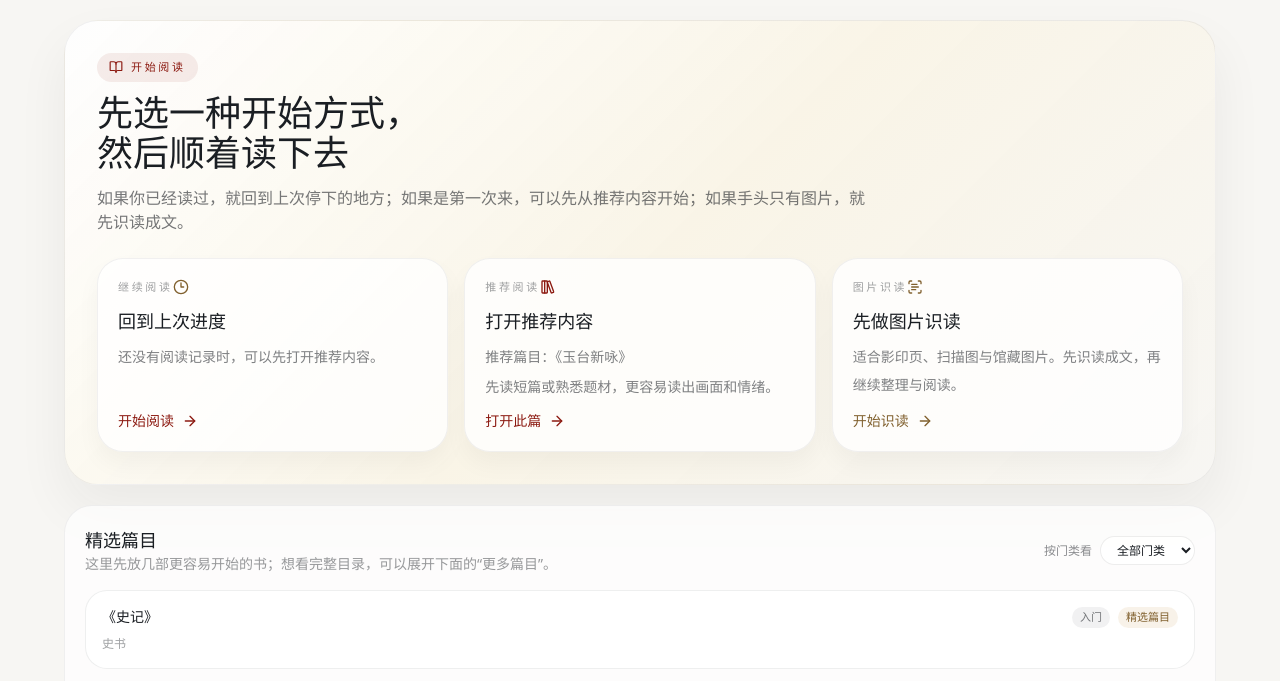
it: BookshelfPanel › keeps featured picks diverse for 全部 and narrows after selecting a category
Expected: the text "《史记》" is shown, [102, 607, 158, 627]
Select "文学" in the dropdown showing "全部门类" at (1148, 550), box [1100, 536, 1195, 564]
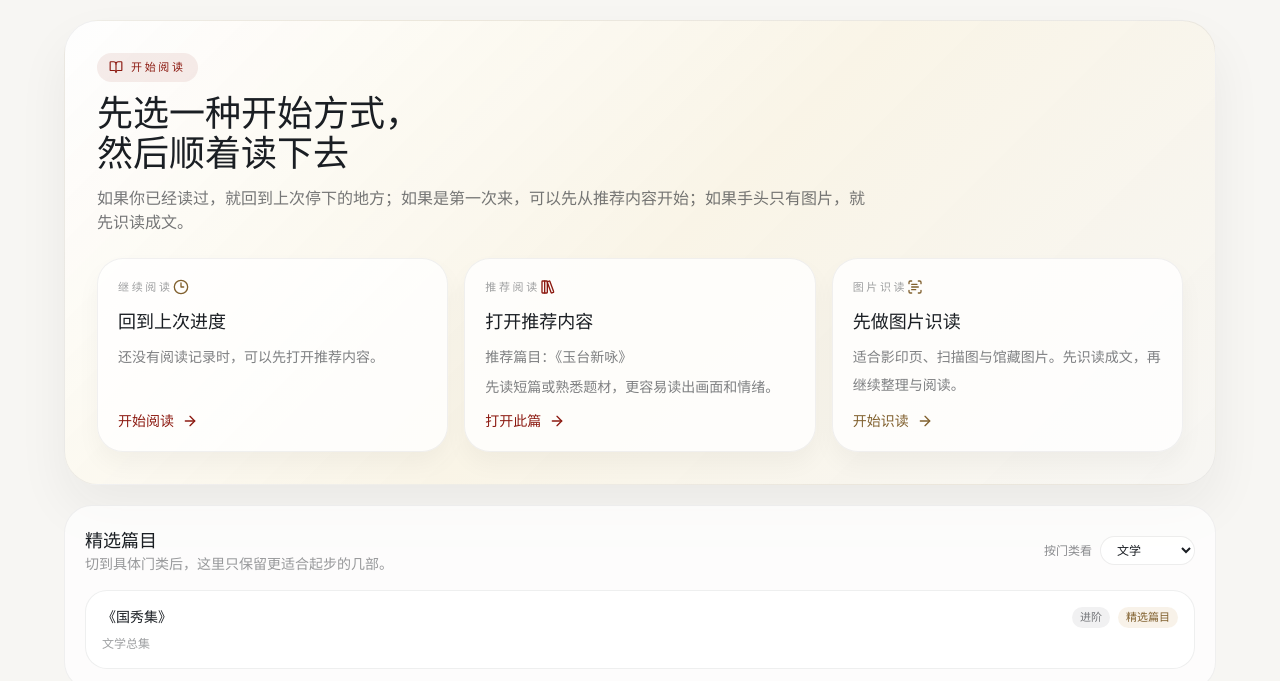
Now the text "《国秀集》" is shown, box [102, 607, 172, 627]
Now the button "《史记》" is gone
